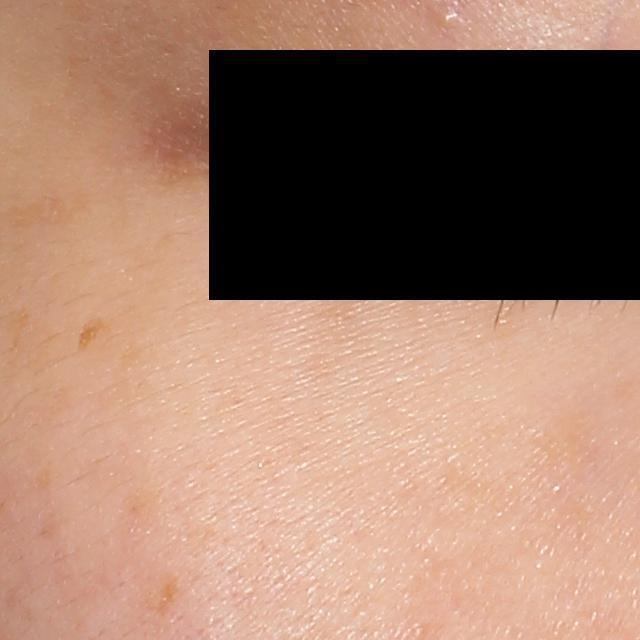melasma: (0, 185, 101, 229), (152, 568, 185, 620)
